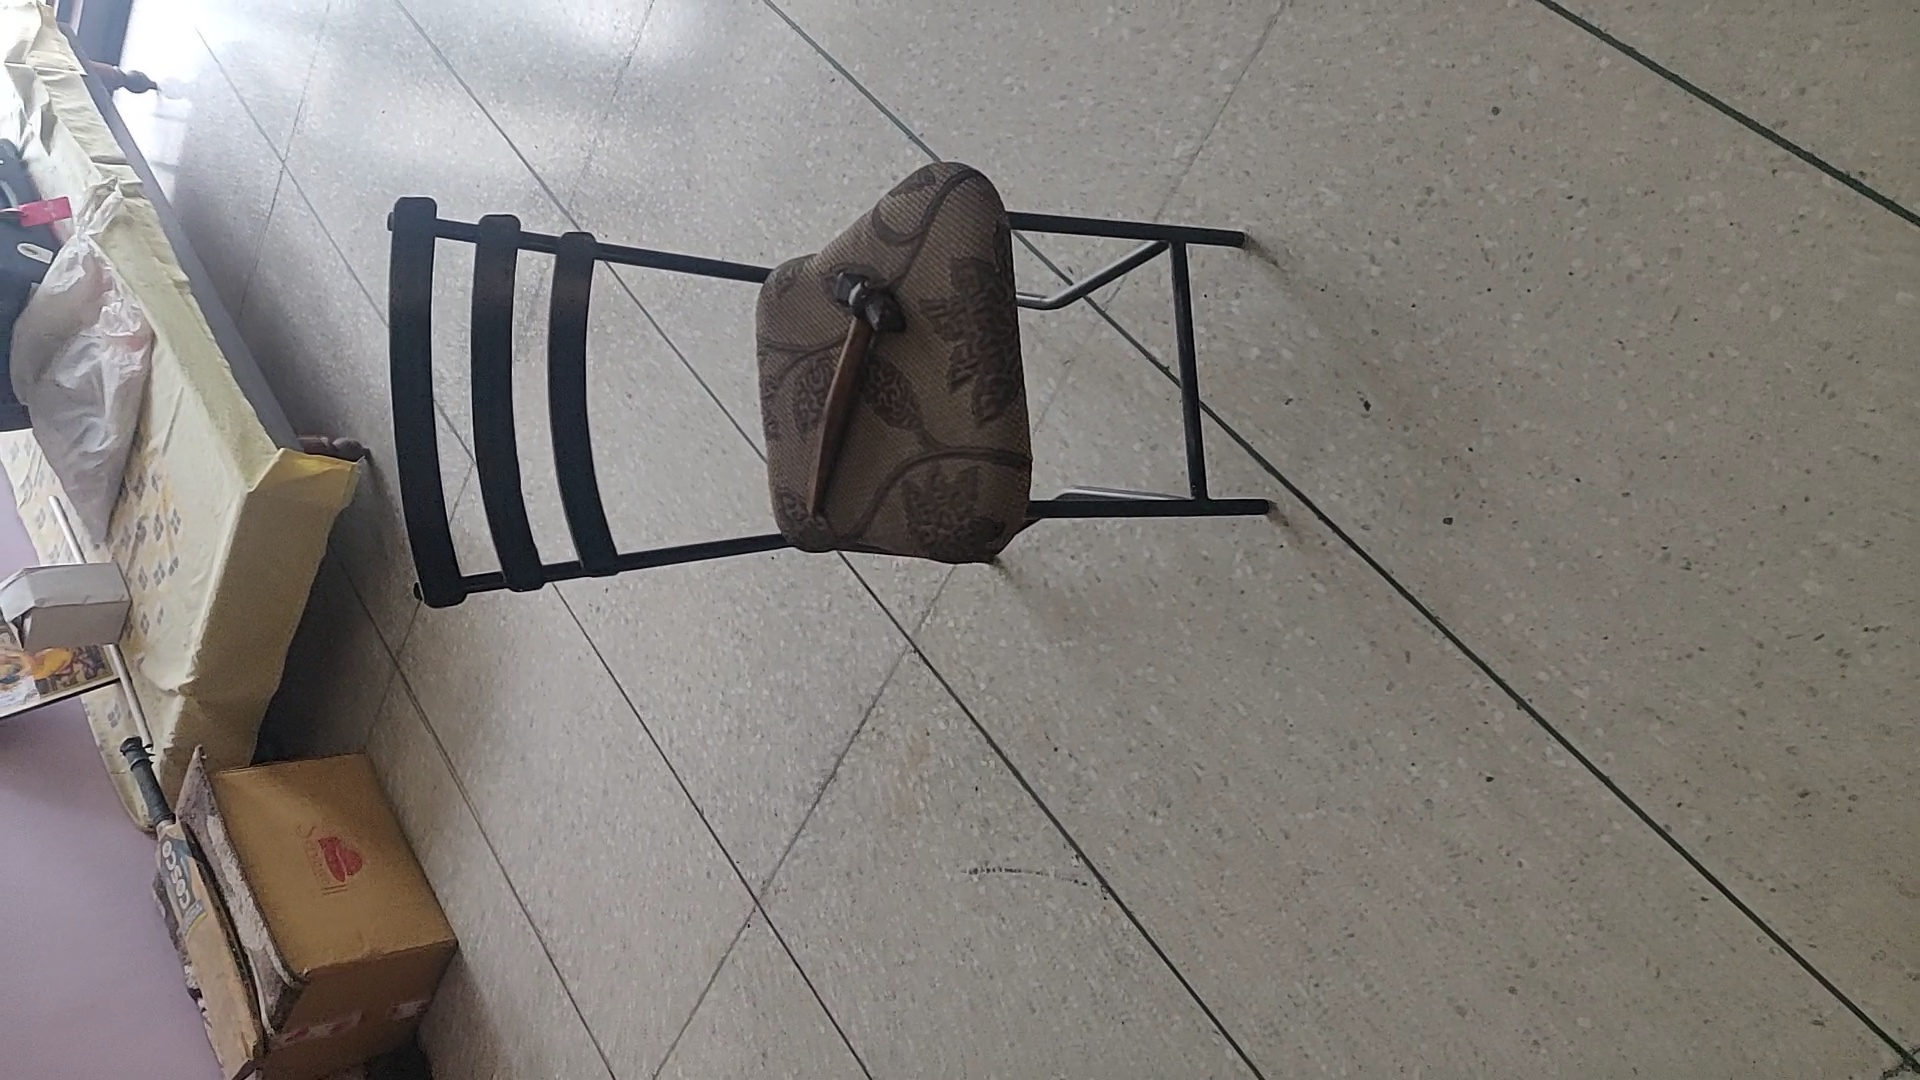hammer: (796, 266, 906, 516)
